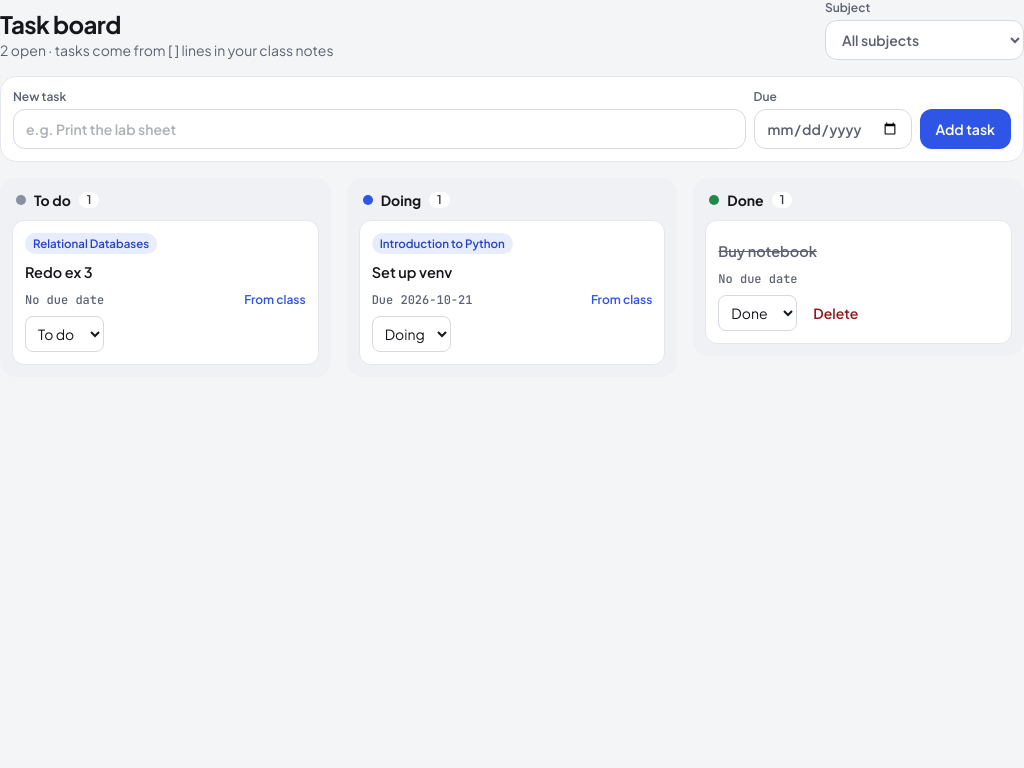
Test case: BoardPage › deletes after confirming and shows a success toast
Click the button with aria-label "Delete Buy notebook": x=836, y=313 [805,295,866,331]
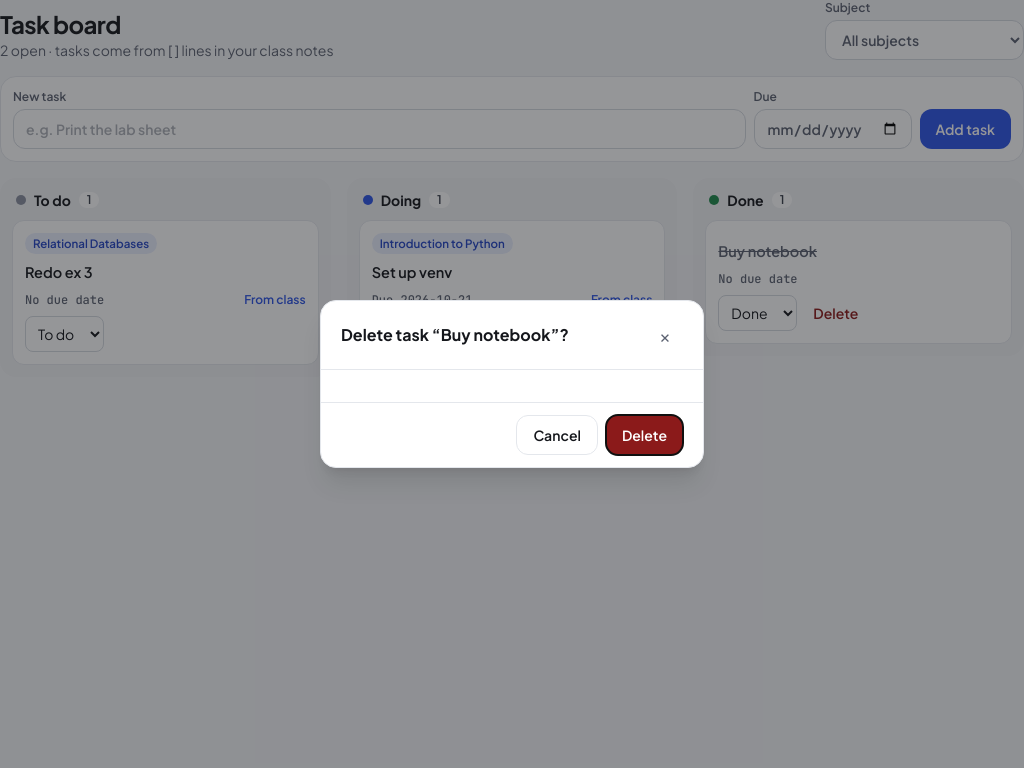
Click the button "Delete": x=644, y=435 [606,415,683,455]
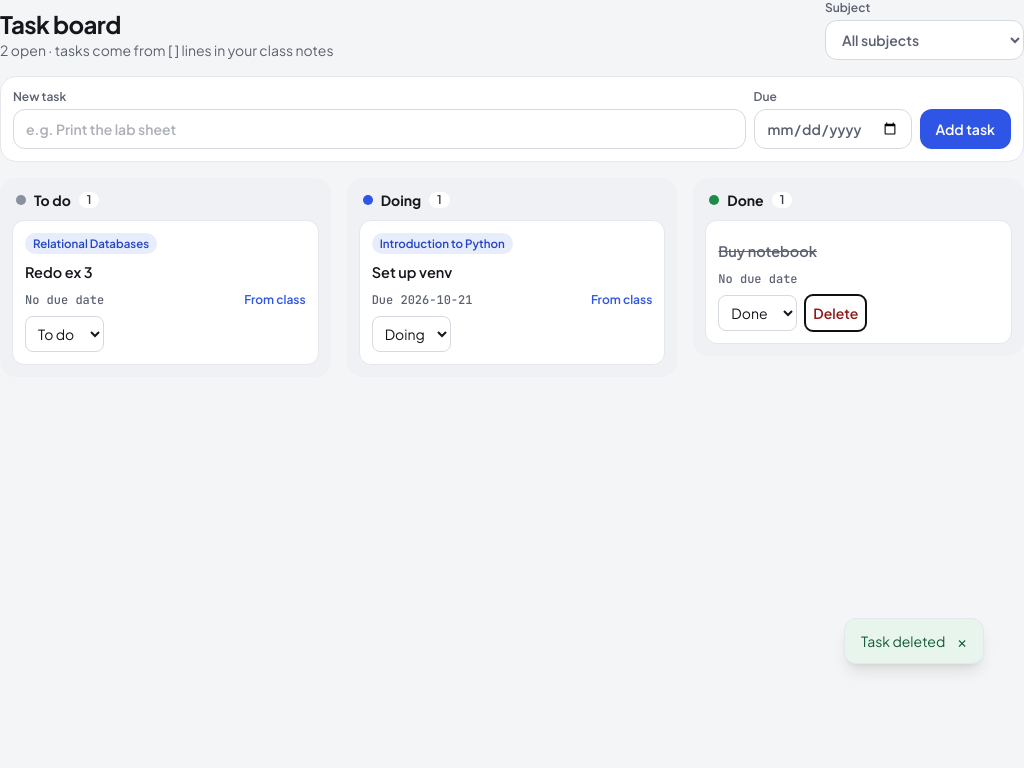
expect the text "Task deleted" is shown: met, box [861,631,945,651]
